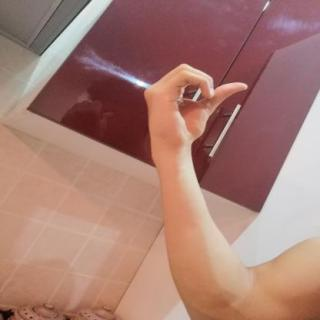WAW: (130, 56, 258, 158)
